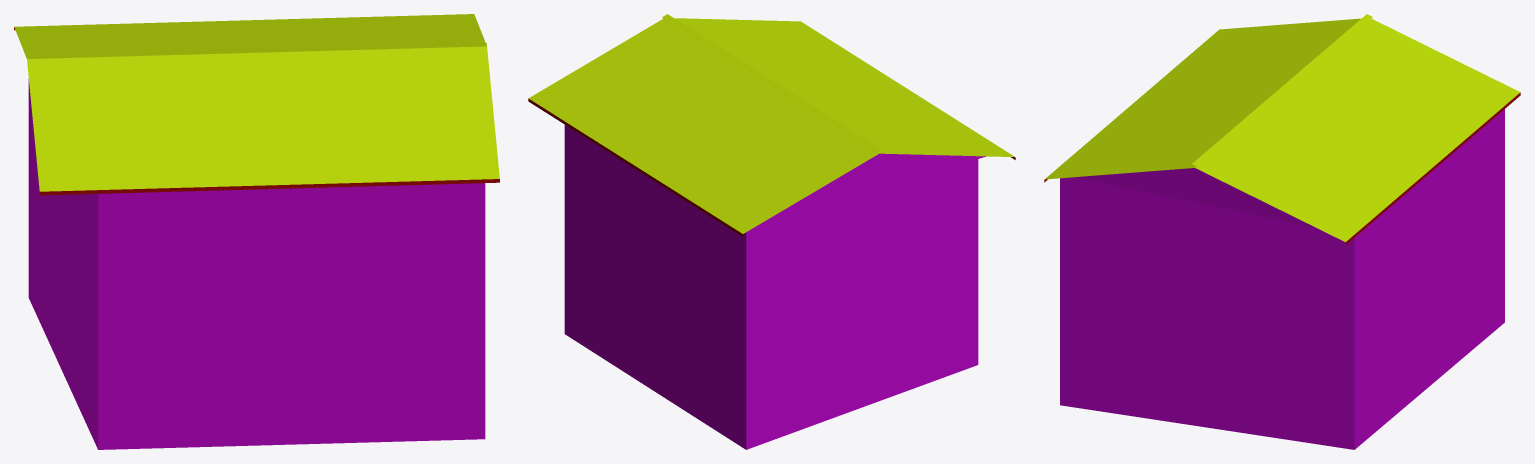
File: rmc_138.glb
3 renders of one model, left to right at view 1: azimuth 30°, elevation 25°; view 2: azimuth 150°, elevation 25°; view 3: azimuth 270°, elevation 25°, orthographic. The views are drawn at different scales.
Parts seen in each view (by area): view 1: rmc_138; view 2: rmc_138; view 3: rmc_138.
Part boxes in pixels (x1,y1,x2,y2): rmc_138: [14, 14, 499, 449]; rmc_138: [528, 14, 1015, 449]; rmc_138: [1044, 14, 1520, 449].
Size of the model in its own units: 17.11 by 10.28 by 16.18.
